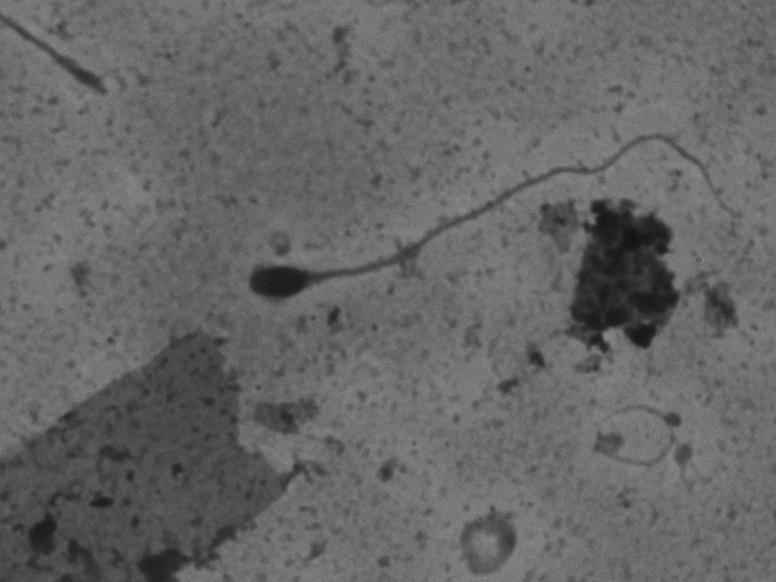Normal: (241, 107, 762, 311)
